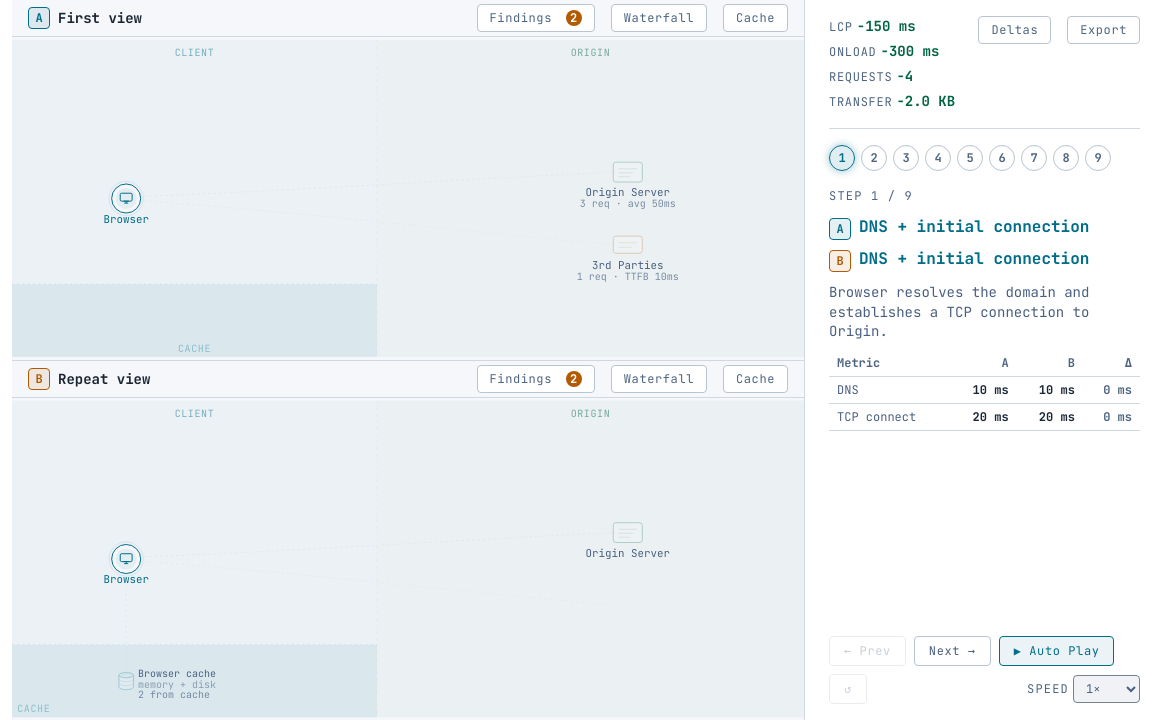
Test: RequestDeltas in the comparison › opens from the Requests view of the Deltas drawer
Step 1. Click the button with aria-label "Toggle deltas" → (1015, 30), box [978,16,1051,44]
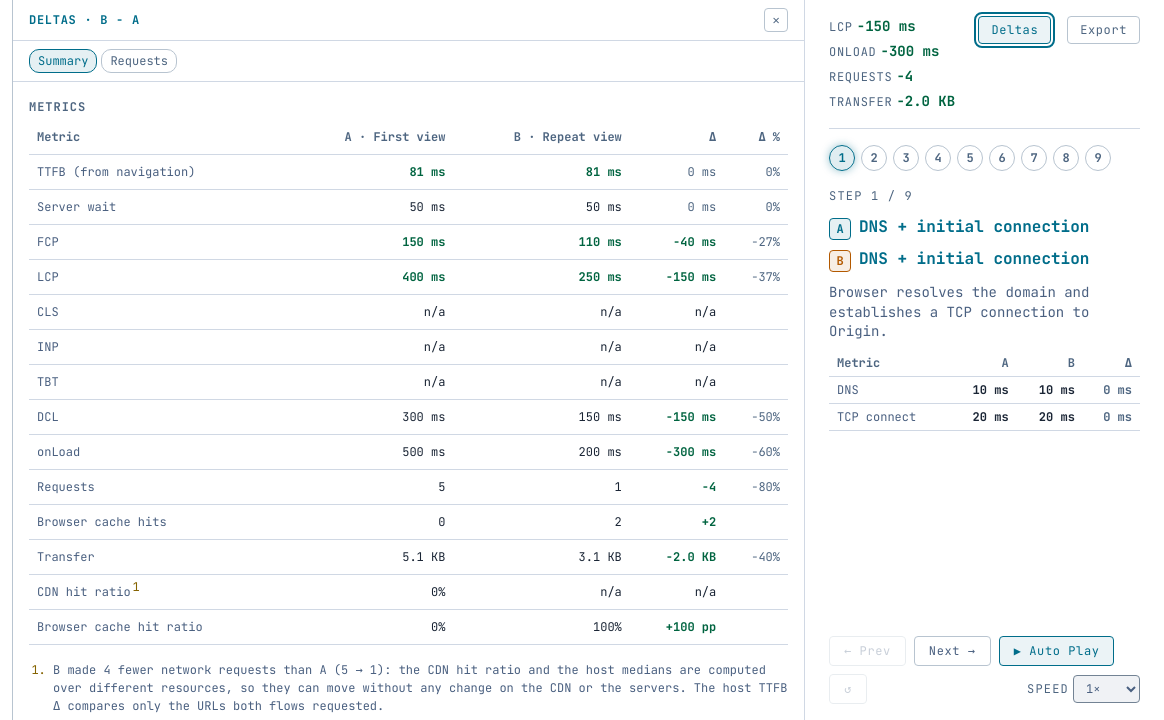
Step 2. Click the button "Requests" → (139, 61), box [101,49,177,73]
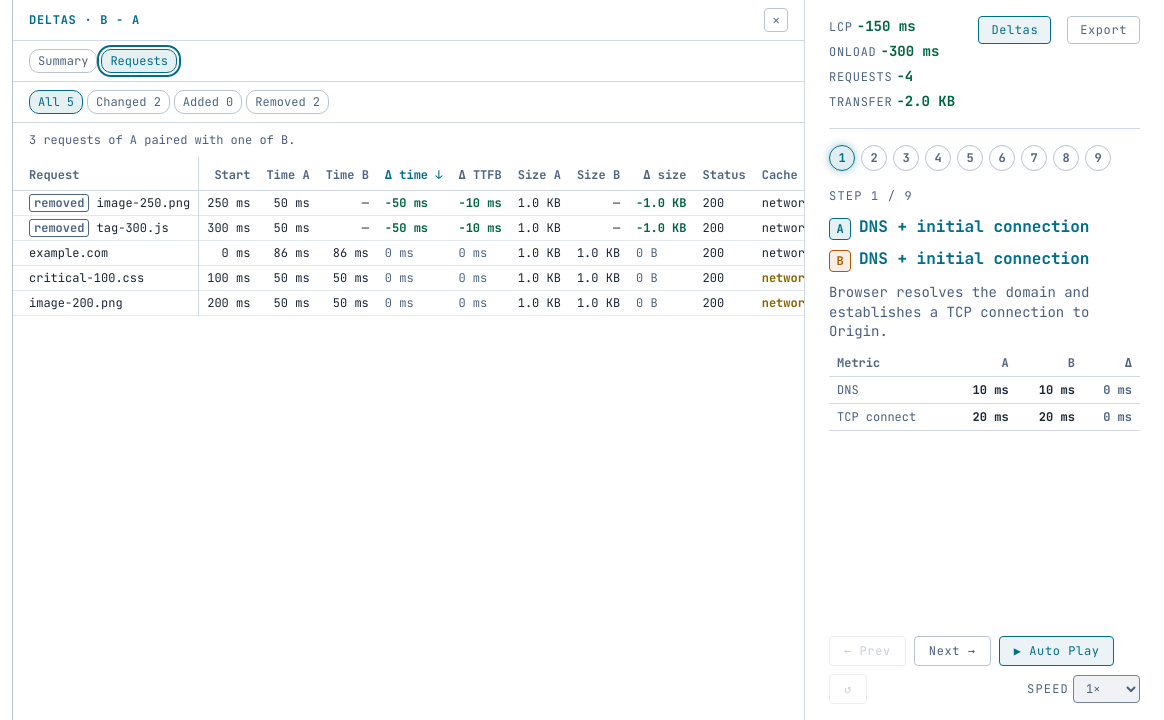
Check: the list "Metric deltas" is gone
Check: the element named "Filter requests" reads "All 5 Changed 2 Added 0 Removed 2", box [13,82,804,123]
Step 3. Click the button "Summary" → (63, 61), box [29,49,97,73]
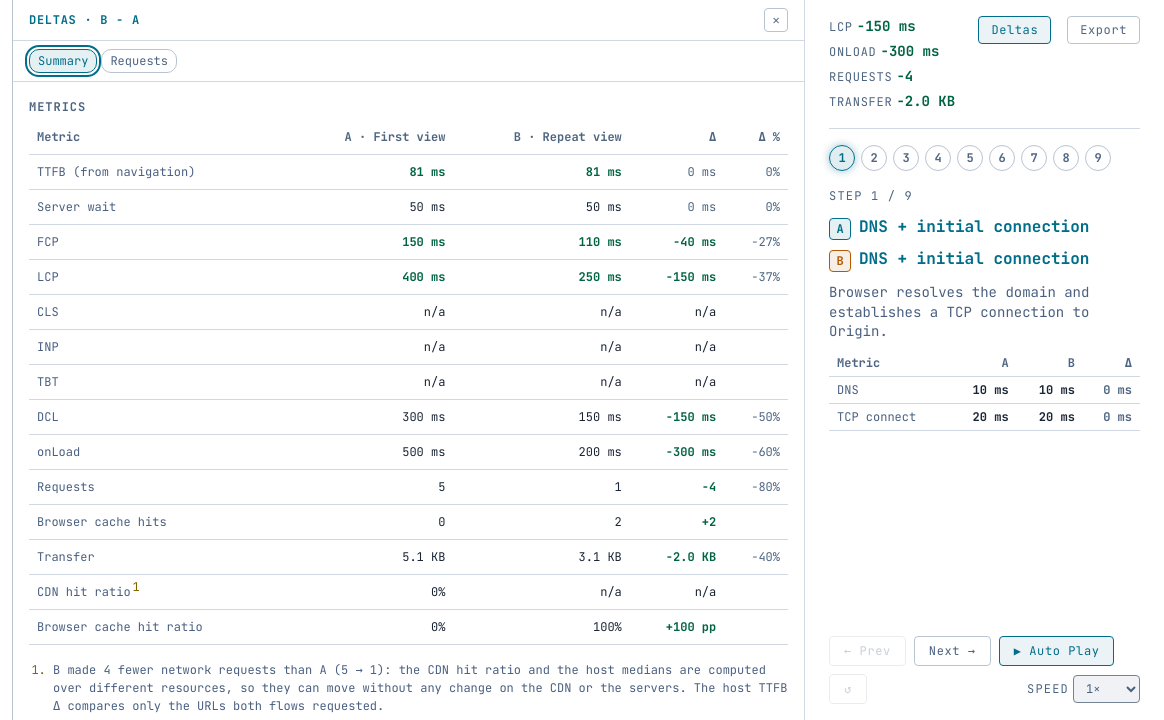
Check: the table named "Metric deltas" is shown, box [29,120,788,645]
